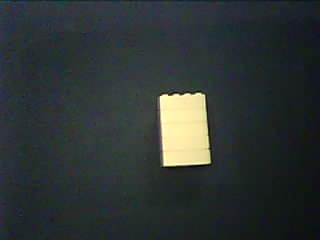lego: (157, 91, 211, 167)
